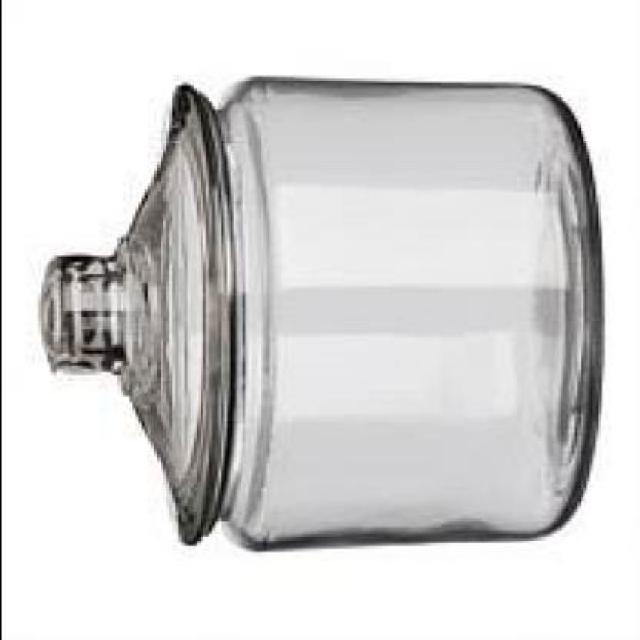GLASS: (37, 76, 597, 549)
